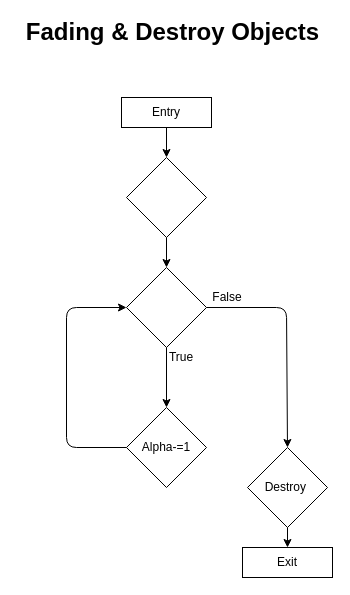
The diagram is 350 pixels wide and 595 high, and some of its shapes have lost their labels. The shapes that lost their labels are listed below. From the top down, each one's box as (x1, y1, x2, y2) in pixels, then its label:
(126, 156, 206, 238): Alpha =1
(126, 266, 206, 348): Alpha > 0
